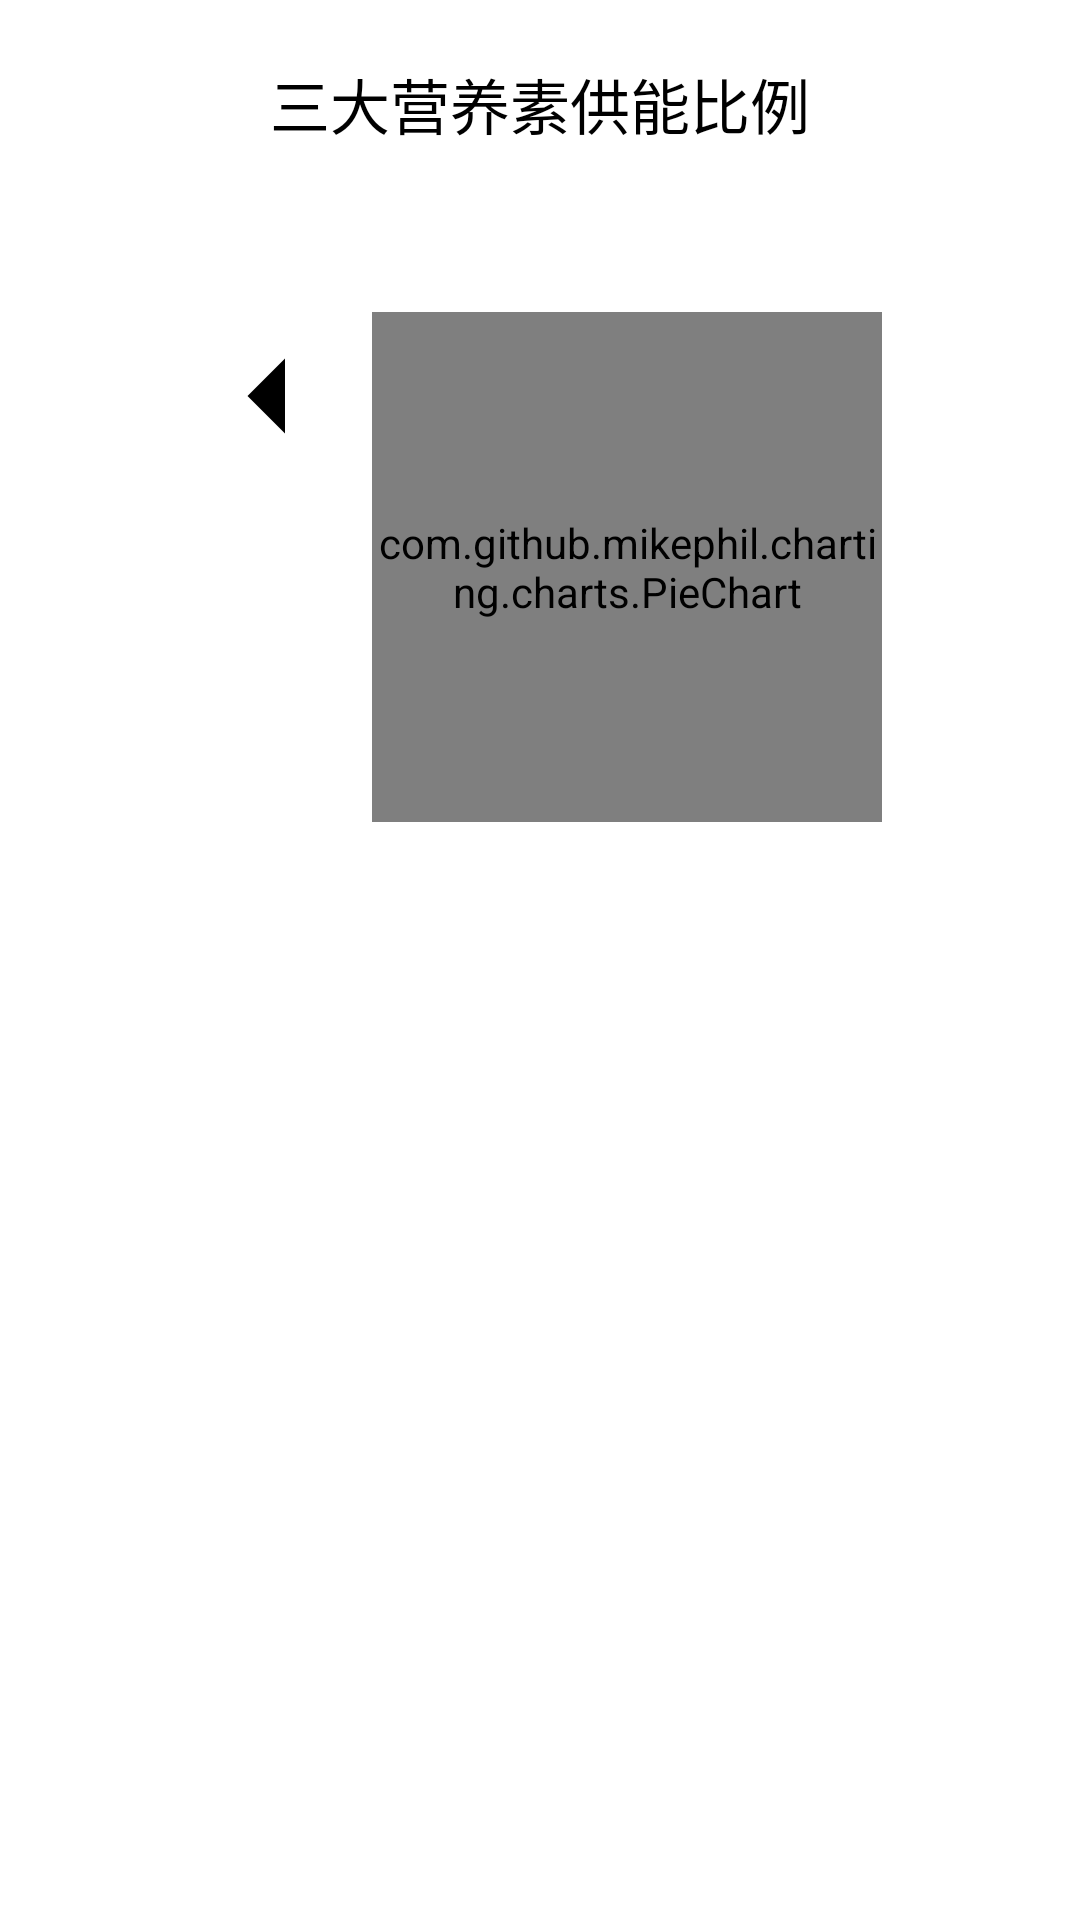

Icon bounding boxes for this 1080w x 1920h phone screenshot, format (x1, y1, x2, y2):
Previous: (247, 358, 285, 434)
